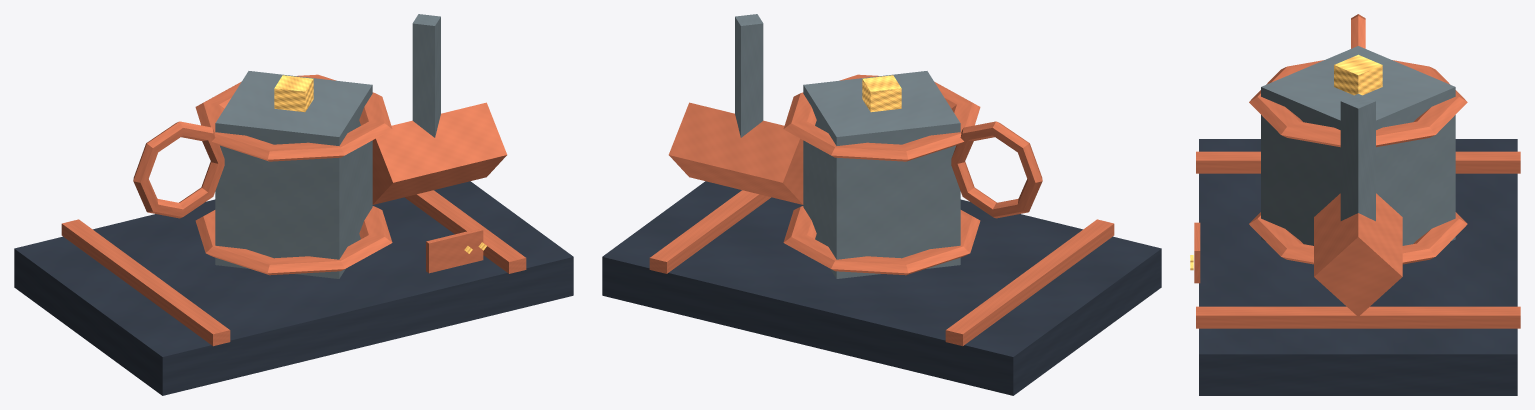
File: atlas100-s025-a02.lod1.glb
3 views of the same model, side by side, from view 1: azimuth 30°, elevation 25°; view 2: azimuth 150°, elevation 25°; view 3: azimuth 270°, elevation 25° (orthographic). The views are drawn at different scales.
Parts seen in each view (by area): view 1: atlas100-s025-a02:part-000, atlas100-s025-a02:part-003, atlas100-s025-a02:part-007, atlas100-s025-a02:part-001, atlas100-s025-a02:part-005, atlas100-s025-a02:part-004, atlas100-s025-a02:part-009, atlas100-s025-a02:part-008, atlas100-s025-a02:part-002, atlas100-s025-a02:part-010, atlas100-s025-a02:part-006; view 2: atlas100-s025-a02:part-000, atlas100-s025-a02:part-003, atlas100-s025-a02:part-007, atlas100-s025-a02:part-001, atlas100-s025-a02:part-005, atlas100-s025-a02:part-004, atlas100-s025-a02:part-009, atlas100-s025-a02:part-008, atlas100-s025-a02:part-002, atlas100-s025-a02:part-006; view 3: atlas100-s025-a02:part-000, atlas100-s025-a02:part-003, atlas100-s025-a02:part-007, atlas100-s025-a02:part-002, atlas100-s025-a02:part-005, atlas100-s025-a02:part-008, atlas100-s025-a02:part-001, atlas100-s025-a02:part-004, atlas100-s025-a02:part-006, atlas100-s025-a02:part-009, atlas100-s025-a02:part-010.
Part boxes in pixels (x1=…): atlas100-s025-a02:part-000: x1=14, y1=181, x2=573, y2=395; atlas100-s025-a02:part-003: x1=215, y1=71, x2=372, y2=278; atlas100-s025-a02:part-007: x1=372, y1=102, x2=507, y2=204; atlas100-s025-a02:part-001: x1=61, y1=219, x2=230, y2=346; atlas100-s025-a02:part-005: x1=195, y1=74, x2=392, y2=161; atlas100-s025-a02:part-004: x1=195, y1=206, x2=392, y2=275; atlas100-s025-a02:part-009: x1=133, y1=121, x2=224, y2=218; atlas100-s025-a02:part-008: x1=412, y1=14, x2=440, y2=137; atlas100-s025-a02:part-002: x1=405, y1=190, x2=526, y2=273; atlas100-s025-a02:part-010: x1=426, y1=228, x2=483, y2=273; atlas100-s025-a02:part-006: x1=274, y1=75, x2=313, y2=112; atlas100-s025-a02:part-000: x1=602, y1=181, x2=1161, y2=395; atlas100-s025-a02:part-003: x1=803, y1=71, x2=960, y2=278; atlas100-s025-a02:part-007: x1=668, y1=102, x2=803, y2=204; atlas100-s025-a02:part-001: x1=945, y1=219, x2=1114, y2=346; atlas100-s025-a02:part-005: x1=783, y1=74, x2=980, y2=161; atlas100-s025-a02:part-004: x1=783, y1=206, x2=980, y2=275; atlas100-s025-a02:part-009: x1=951, y1=121, x2=1042, y2=218; atlas100-s025-a02:part-008: x1=735, y1=14, x2=763, y2=137; atlas100-s025-a02:part-002: x1=649, y1=190, x2=770, y2=273; atlas100-s025-a02:part-006: x1=862, y1=75, x2=901, y2=112; atlas100-s025-a02:part-000: x1=1199, y1=139, x2=1517, y2=395; atlas100-s025-a02:part-003: x1=1261, y1=46, x2=1455, y2=245; atlas100-s025-a02:part-007: x1=1314, y1=193, x2=1402, y2=316; atlas100-s025-a02:part-002: x1=1196, y1=306, x2=1520, y2=328; atlas100-s025-a02:part-005: x1=1249, y1=60, x2=1467, y2=147; atlas100-s025-a02:part-008: x1=1340, y1=93, x2=1375, y2=221; atlas100-s025-a02:part-001: x1=1196, y1=151, x2=1520, y2=173; atlas100-s025-a02:part-004: x1=1249, y1=212, x2=1467, y2=264; atlas100-s025-a02:part-006: x1=1334, y1=54, x2=1382, y2=95; atlas100-s025-a02:part-009: x1=1351, y1=14, x2=1365, y2=48; atlas100-s025-a02:part-010: x1=1194, y1=222, x2=1200, y2=283.
Bounding box in the file's own units: 2.88 × 1.6 × 1.87.
4 materials, 4 textured.
